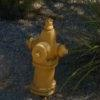Hydrant: (21, 10, 71, 99)
